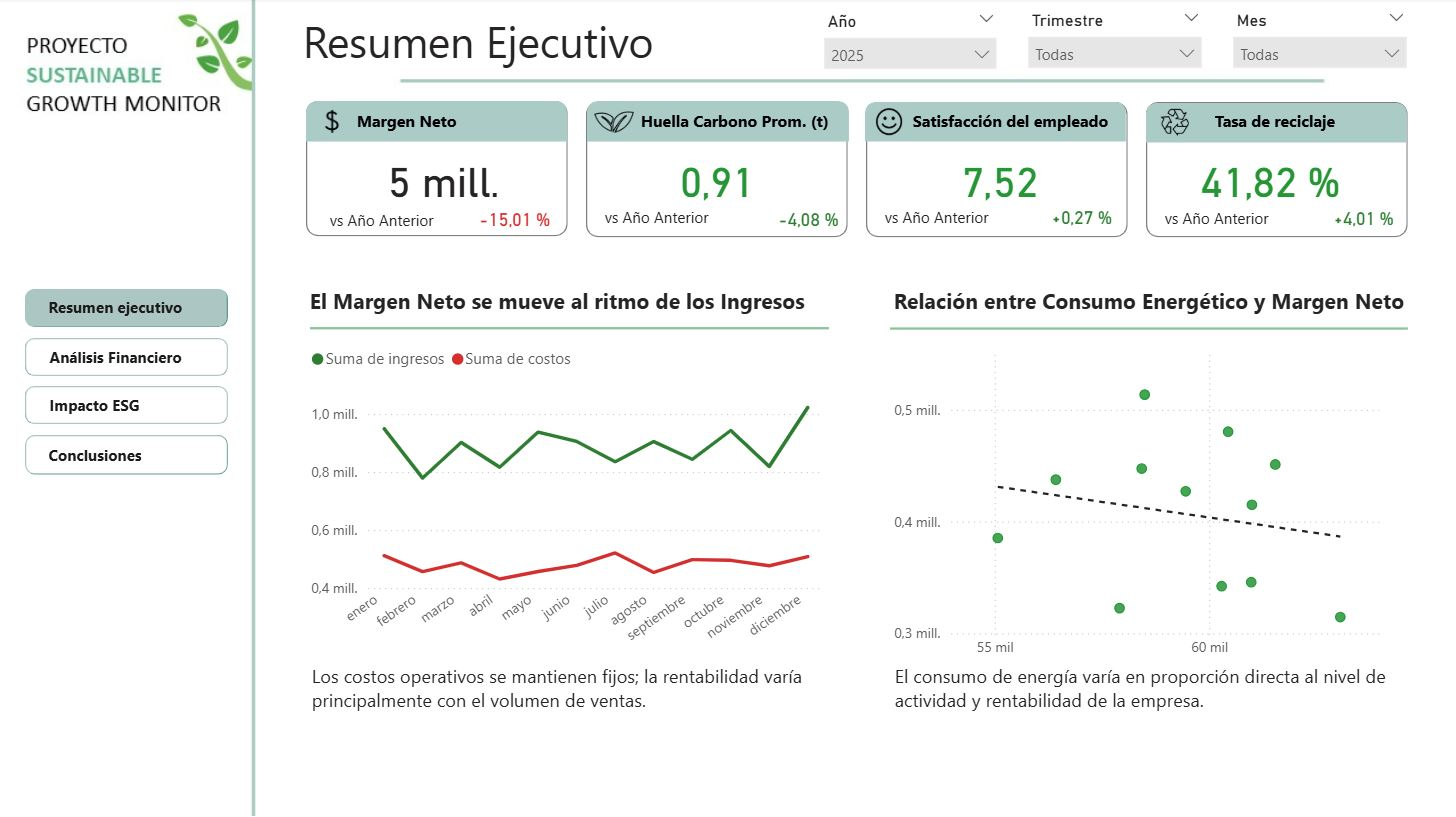

Layout of this report page (visuals, bound fields, positions):
{"tool":"powerbi","page":{"name":"Resumen Ejecutivo","canvas":[1280,720],"ordinal":1},"visuals":[{"type":"group","id":"g1","title":"Grupo 1","box":[268.8,90.6,229.7,118.7],"z":0},{"type":"shape","box":[514.5,90.9,229.7,118.7],"z":1000},{"type":"shape","box":[760.3,90.9,229.7,118.7],"z":2000},{"type":"shape","box":[268.8,90.6,229.7,118.7],"z":3000,"group":"g1"},{"type":"shape","box":[1006,90.9,229.7,118.7],"z":3000},{"type":"shape","box":[21.8,255.1,178.2,33.3],"z":4000},{"type":"shape","box":[21.8,298.7,178.2,33.3],"z":5000},{"type":"shape","box":[21.8,341,178.2,33.3],"z":6000},{"type":"shape","box":[21.8,383.3,178.2,34.6],"z":7000},{"type":"actionButton","box":[21.5,254.8,178.5,33.9],"z":8000},{"type":"actionButton","box":[21.6,297.9,178.4,34],"z":9000},{"type":"actionButton","box":[21.6,340.2,178.4,34],"z":10000},{"type":"actionButton","box":[21.5,383.3,178.5,34.4],"z":11000},{"type":"textbox","box":[260.4,7.7,479.1,62.6],"z":12000},{"type":"slicer","fields":{"Values":["Calendario.Mes"]},"box":[1072.8,6.6,172,61.3],"z":13000},{"type":"slicer","fields":{"Values":["Calendario.Año"]},"box":[713.9,6.8,171.2,61.6],"z":14000},{"type":"card","fields":{"Values":["finanzas_limpio.Margen Neto $"]},"box":[290.4,126,195.9,64.4],"z":15000},{"type":"card","fields":{"Values":["ambiental_limpio.Huella Carbono (t)"]},"box":[530.1,126,198.6,64.4],"z":16000},{"type":"card","fields":{"Values":["RRHH_limpio.Satisfaccion Promedio"]},"box":[790.4,126,175.3,64.4],"z":17000},{"type":"card","fields":{"Values":["Objetivos_limpio.% Reciclaje"]},"box":[1031.5,126,167.1,64.4],"z":18000},{"type":"lineChart","fields":{"Y":["Sum(finanzas_limpio.ingresos)","Sum(finanzas_limpio.costos)"],"Category":["Calendario.Mes"]},"box":[267.9,297.2,460,290.7],"z":19000},{"type":"textbox","box":[267.1,248.8,473.2,45.1],"z":20000},{"type":"textbox","box":[779.7,248.2,468.4,45.6],"z":21000},{"type":"shape","box":[272,282.5,455.7,14.4],"z":22000},{"type":"shape","box":[781.3,286.2,454.7,8],"z":23000},{"type":"scatterChart","fields":{"X":["Sum(ambiental_limpio.consumo_kwh)"],"Y":["finanzas_limpio.Margen Neto $"],"Category":["Calendario.Mes"]},"box":[779.9,298.2,454.7,289.3],"z":24000},{"type":"textbox","box":[268.3,579.8,488.6,83.5],"z":25000},{"type":"textbox","box":[781,579.8,489.9,62],"z":26000},{"type":"card","fields":{"Values":["finanzas_limpio.Variacion Margen %"]},"box":[399.5,177.8,104.4,36.3],"z":27000},{"type":"slicer","fields":{"Values":["Calendario.Trimestre"]},"box":[893,6.6,172,61.3],"z":28000},{"type":"card","fields":{"Values":["ambiental_limpio.Var % Huella"]},"box":[674.5,178.2,70.7,35],"z":29000},{"type":"card","fields":{"Values":["RRHH_limpio.Var % Satisfaccion"]},"box":[885.1,176.5,129.3,35],"z":30000},{"type":"card","fields":{"Values":["ambiental_limpio.Var % Reciclaje"]},"box":[1158.3,177.3,78,35],"z":31000},{"type":"shape","box":[515.2,90.4,230.1,35.8],"z":32000},{"type":"shape","box":[269,90.8,229.3,35.8],"z":32000,"group":"g1"},{"type":"shape","box":[759.9,91.2,229.3,35],"z":33000},{"type":"image","box":[273.6,98.9,35.7,20.2],"z":33000,"group":"g1"},{"type":"shape","box":[1006.2,92,229.3,35],"z":34000},{"type":"textbox","box":[308.1,93,136.9,33.3],"z":34000,"group":"g1"},{"type":"image","box":[754.8,96.4,51.2,23.8],"z":35000},{"type":"textbox","box":[557.1,92.9,188.1,39.3],"z":36000},{"type":"image","box":[521.4,96.4,34.5,25],"z":37000},{"type":"textbox","box":[1061.9,92.9,145.2,32.1],"z":38000},{"type":"image","box":[1008.3,96.4,46.4,25],"z":39000},{"type":"textbox","box":[796.4,92.9,191.7,33.3],"z":40000},{"type":"textbox","box":[284.5,181,102.4,36.9],"z":41000},{"type":"textbox","box":[526.2,178.6,102.4,36.9],"z":42000},{"type":"textbox","box":[771.8,178.2,102.6,37.2],"z":43000},{"type":"textbox","box":[1017.9,179.5,102.6,37.2],"z":44000}]}

Visuals, with their boxes in screenshot pixels (x1, y1, x2, y2), scaled from the page's 1280x720 canvas onto the 1456x817 screenshot:
"Grupo 1" group: bbox(306, 103, 567, 237)
shape: bbox(585, 103, 847, 238)
shape: bbox(865, 103, 1126, 238)
shape: bbox(306, 103, 567, 237)
shape: bbox(1144, 103, 1406, 238)
shape: bbox(25, 289, 228, 327)
shape: bbox(25, 339, 228, 377)
shape: bbox(25, 387, 228, 425)
shape: bbox(25, 435, 228, 474)
actionButton: bbox(24, 289, 228, 328)
actionButton: bbox(25, 338, 228, 377)
actionButton: bbox(25, 386, 228, 425)
actionButton: bbox(24, 435, 228, 474)
textbox: bbox(296, 9, 841, 80)
slicer - Calendario.Mes: bbox(1220, 7, 1416, 77)
slicer - Calendario.Año: bbox(812, 8, 1007, 78)
card - finanzas_limpio.Margen Neto $: bbox(330, 143, 553, 216)
card - ambiental_limpio.Huella Carbono (t): bbox(603, 143, 829, 216)
card - RRHH_limpio.Satisfaccion Promedio: bbox(899, 143, 1098, 216)
card - Objetivos_limpio.% Reciclaje: bbox(1173, 143, 1363, 216)
lineChart - Sum(finanzas_limpio.ingresos) x Sum(finanzas_limpio.costos): bbox(305, 337, 828, 667)
textbox: bbox(304, 282, 842, 333)
textbox: bbox(887, 282, 1420, 333)
shape: bbox(309, 321, 828, 337)
shape: bbox(889, 325, 1406, 334)
scatterChart - Sum(ambiental_limpio.consumo_kwh) x finanzas_limpio.Margen Neto $: bbox(887, 338, 1404, 667)
textbox: bbox(305, 658, 861, 753)
textbox: bbox(888, 658, 1446, 728)
card - finanzas_limpio.Variacion Margen %: bbox(454, 202, 573, 243)
slicer - Calendario.Trimestre: bbox(1016, 7, 1211, 77)
card - ambiental_limpio.Var % Huella: bbox(767, 202, 848, 242)
card - RRHH_limpio.Var % Satisfaccion: bbox(1007, 200, 1154, 240)
card - ambiental_limpio.Var % Reciclaje: bbox(1318, 201, 1406, 241)
shape: bbox(586, 103, 848, 143)
shape: bbox(306, 103, 567, 144)
shape: bbox(864, 103, 1125, 143)
image: bbox(311, 112, 352, 135)
shape: bbox(1145, 104, 1405, 144)
textbox: bbox(350, 106, 506, 143)
image: bbox(859, 109, 917, 136)
textbox: bbox(634, 105, 848, 150)
image: bbox(593, 109, 632, 138)
textbox: bbox(1208, 105, 1373, 142)
image: bbox(1147, 109, 1200, 138)
textbox: bbox(906, 105, 1124, 143)
textbox: bbox(324, 205, 440, 247)
textbox: bbox(599, 203, 715, 245)
textbox: bbox(878, 202, 995, 244)
textbox: bbox(1158, 204, 1275, 246)
